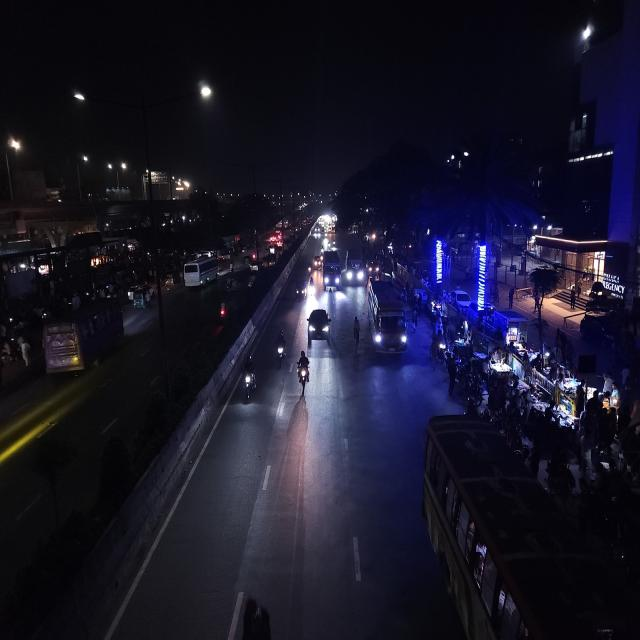bicycle: (352, 313, 362, 357)
bus: (421, 413, 635, 639), (38, 296, 126, 381), (364, 275, 408, 359), (182, 252, 218, 291), (321, 249, 342, 293), (345, 247, 365, 287)
car: (306, 305, 332, 346), (448, 287, 474, 312), (248, 254, 260, 274), (264, 254, 276, 270)
cng: (294, 279, 308, 303), (312, 253, 322, 271)
motorcycle: (240, 354, 259, 404), (295, 348, 313, 394), (273, 327, 287, 369)
